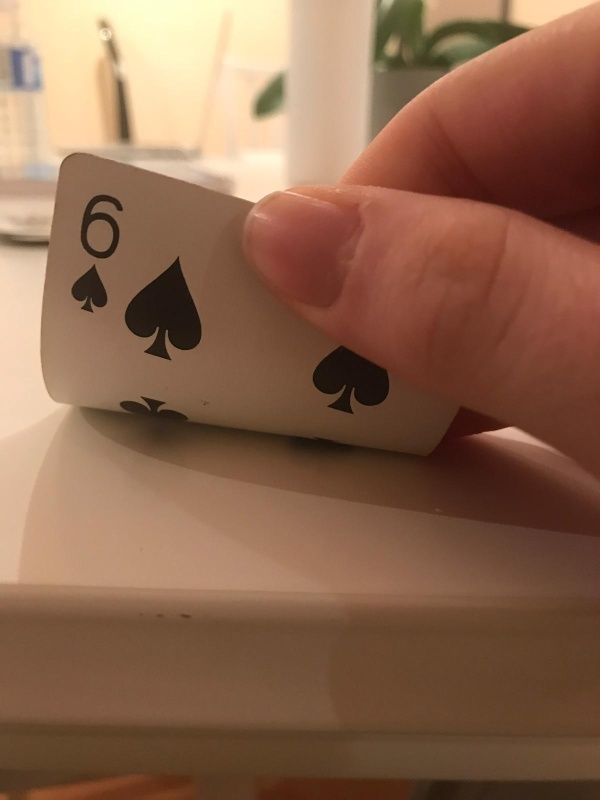S6: (59, 184, 123, 318)
